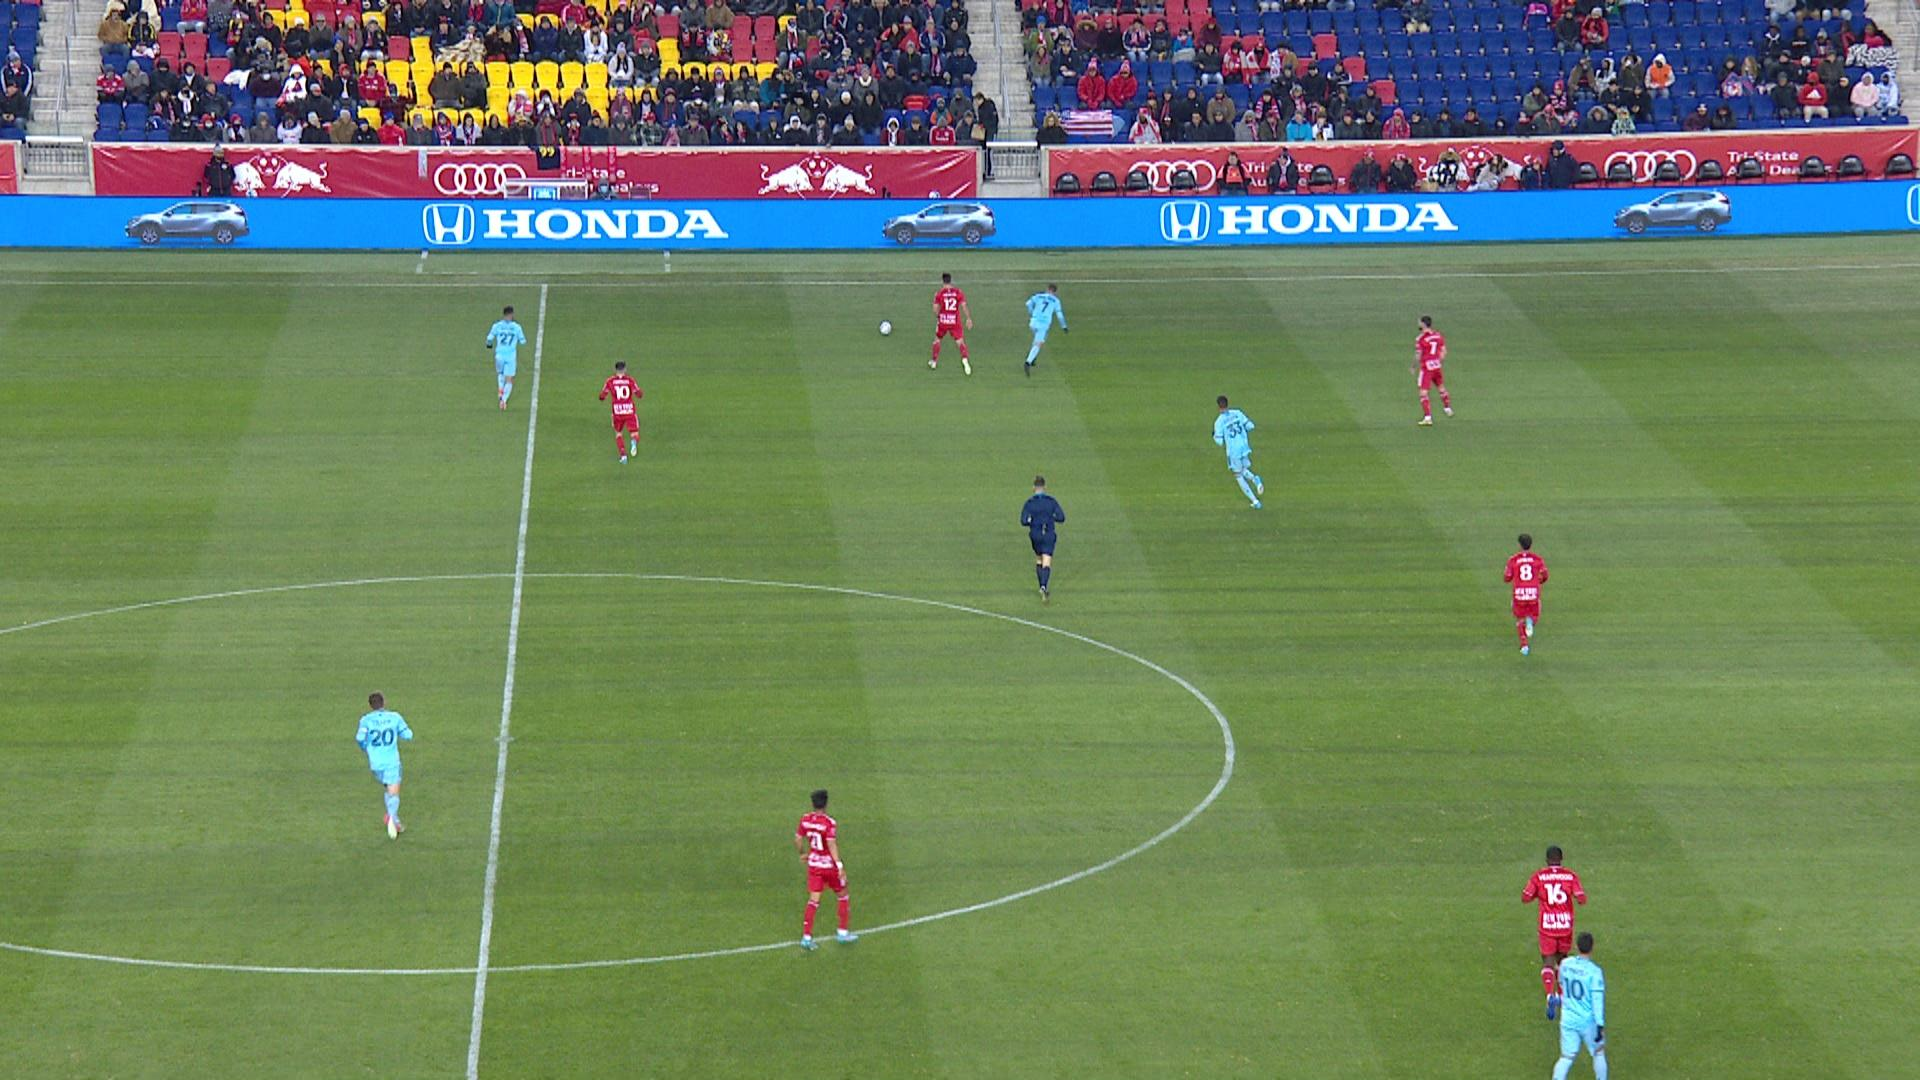football: (878, 319, 893, 336)
